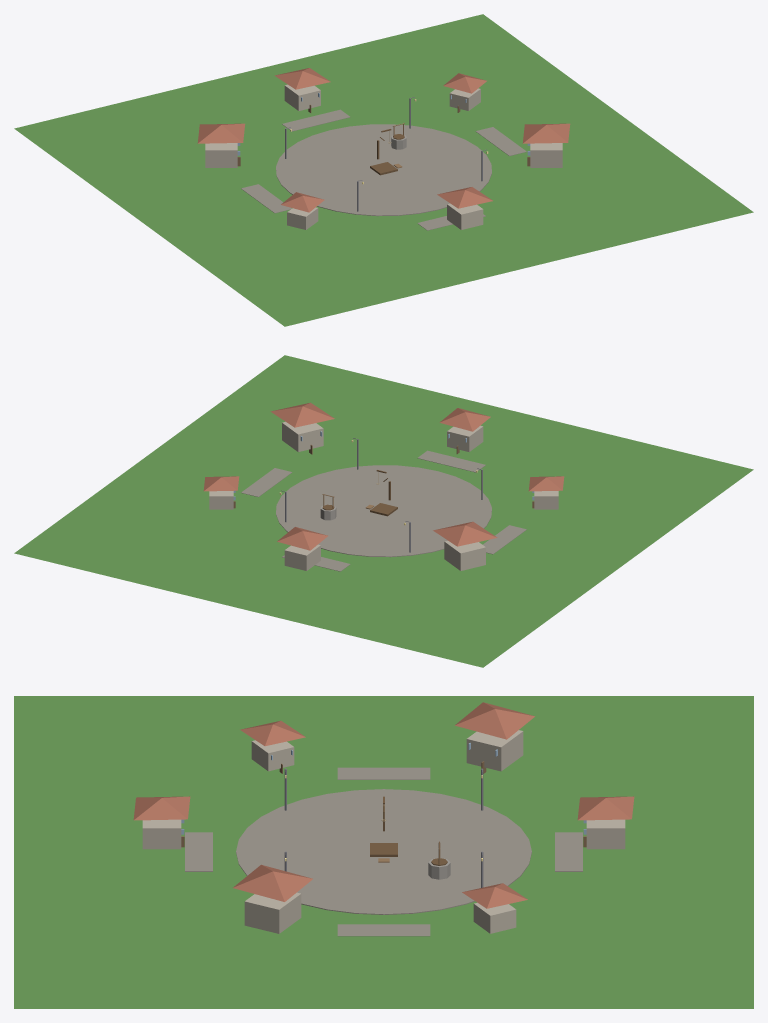
The model's file is village.glb.
3 renders of one model, top to bottom at view 1: azimuth 30°, elevation 25°; view 2: azimuth 150°, elevation 25°; view 3: azimuth 270°, elevation 25°, orthographic. The views are drawn at different scales.
Parts seen in each view (by area): view 1: Ground, TownSquare, Roof_-10_6, Roof_10_-5, House_-10_6, House_10_-5, House_0_-12, House_0_12, Roof_0_12, Roof_0_-12, Path_90, Path_0 (+3 smaller); view 2: Ground, TownSquare, House_-10_6, House_10_-5, Roof_-10_6, Roof_10_-5, House_0_12, House_0_-12, Roof_0_-12, Roof_0_12, Path_270, Path_0 (+2 smaller); view 3: Ground, TownSquare, House_10_-5, House_-10_6, Roof_-10_6, Roof_10_-5, Roof_0_12, Roof_0_-12, Path_0, Path_180, House_0_12, House_0_-12 (+6 smaller).
Boxes of the visible parts, x1,y1,x2,y2 form: Ground: (14,14,753,326); TownSquare: (276,124,491,216); Roof_-10_6: (197,123,245,143); Roof_10_-5: (522,123,570,143); House_-10_6: (205,143,237,167); House_10_-5: (530,143,562,167); House_0_-12: (447,203,483,229); House_0_12: (284,84,320,110); Roof_0_12: (274,68,330,89); Roof_0_-12: (437,187,492,208); Path_90: (282,109,350,131); Path_0: (475,127,526,155); Ground: (14,355,753,667); TownSquare: (276,465,491,557); House_-10_6: (444,541,485,570); House_10_-5: (282,421,323,451); Roof_-10_6: (433,521,497,546); Roof_10_-5: (270,402,334,427); House_0_12: (284,544,320,570); House_0_-12: (447,425,483,451); Roof_0_-12: (439,408,490,431); Roof_0_12: (277,527,328,550); Path_270: (417,450,485,472); Path_0: (241,468,292,496); Ground: (14,696,753,1008); TownSquare: (236,789,531,914); House_10_-5: (244,892,301,933); House_-10_6: (466,730,523,771); Roof_-10_6: (455,702,534,739); Roof_10_-5: (233,864,312,901); Roof_0_12: (577,796,634,820); Roof_0_-12: (133,796,190,820); Path_0: (337,924,430,936); Path_180: (337,767,430,779); House_0_12: (586,819,625,849); House_0_-12: (142,819,181,849).
Size of the model in its own units: 40 by 3.72 by 40.
